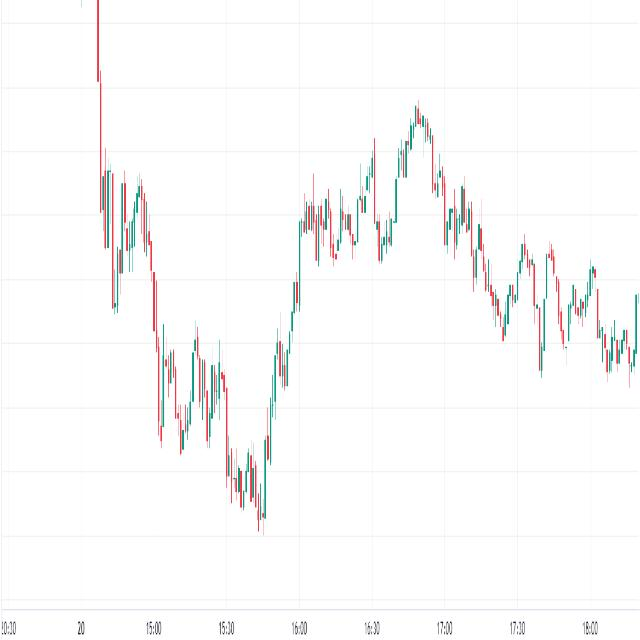Ascending-Triangle: (101, 163, 169, 356)
Descending-Triangle: (378, 18, 513, 262)
Head-Shoulders: (394, 82, 448, 270), (504, 230, 544, 366)
